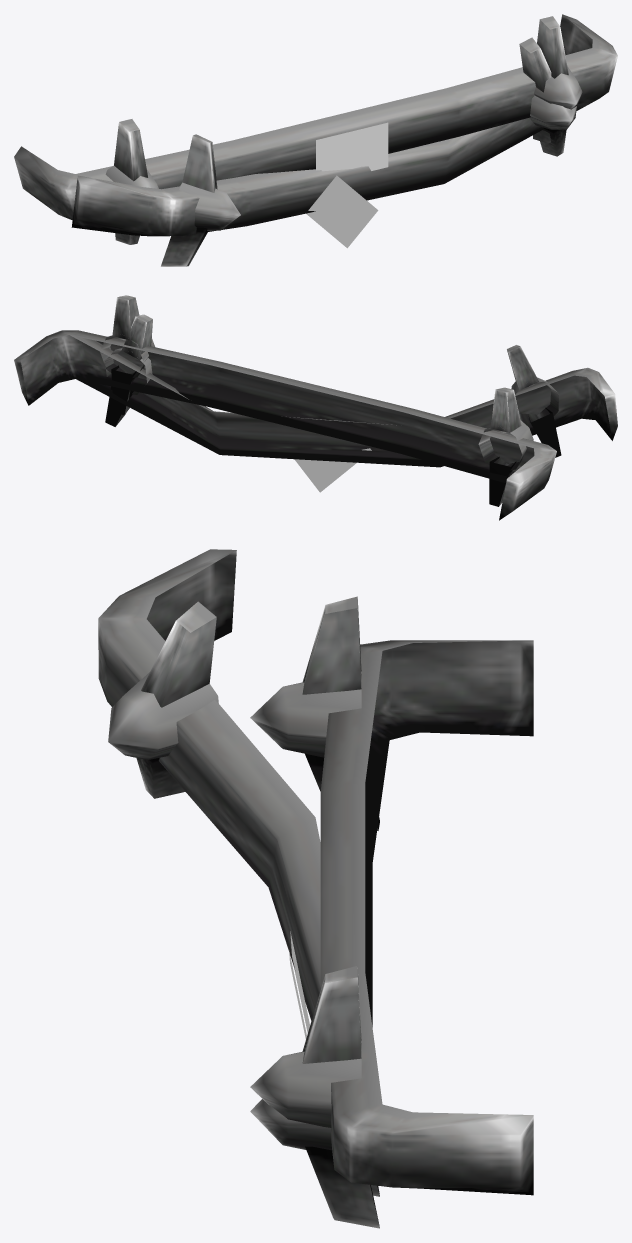
File: rbmp_lr_t1.glb
The picture shows the model from 3 angles, top to bottom: view 1: azimuth 30°, elevation 25°; view 2: azimuth 150°, elevation 25°; view 3: azimuth 270°, elevation 25°; orthographic projection. The views are drawn at different scales.
Parts seen in each view (by area): view 1: rbmp_lr_t1, rbmp_lr_t1_dam; view 2: rbmp_lr_t1, rbmp_lr_t1_dam; view 3: rbmp_lr_t1, rbmp_lr_t1_dam.
Part boxes in pixels (<box>): rbmp_lr_t1: <box>14,14,617,244</box>; rbmp_lr_t1_dam: <box>71,37,598,266</box>; rbmp_lr_t1: <box>14,295,556,520</box>; rbmp_lr_t1_dam: <box>70,314,617,492</box>; rbmp_lr_t1: <box>250,596,533,1196</box>; rbmp_lr_t1_dam: <box>98,549,379,1228</box>.
Bounding box in the file's own units: 2.45 × 0.7367 × 0.879.
Materials: 4 (4 with a texture image).
